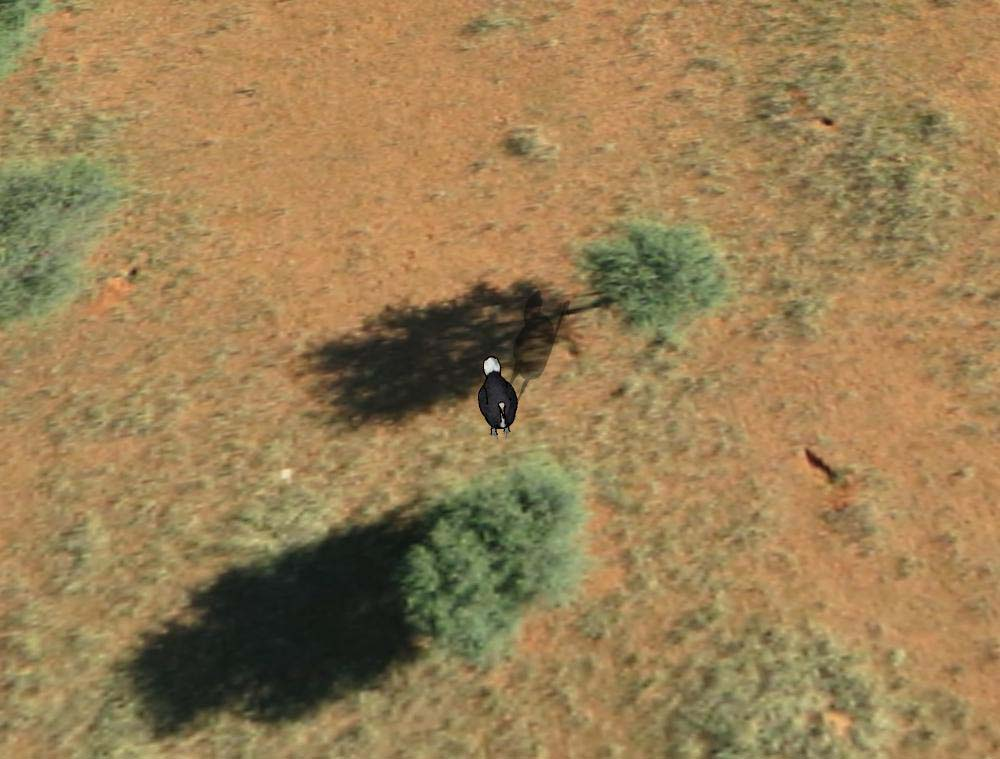springbok: (465, 356, 530, 434)
